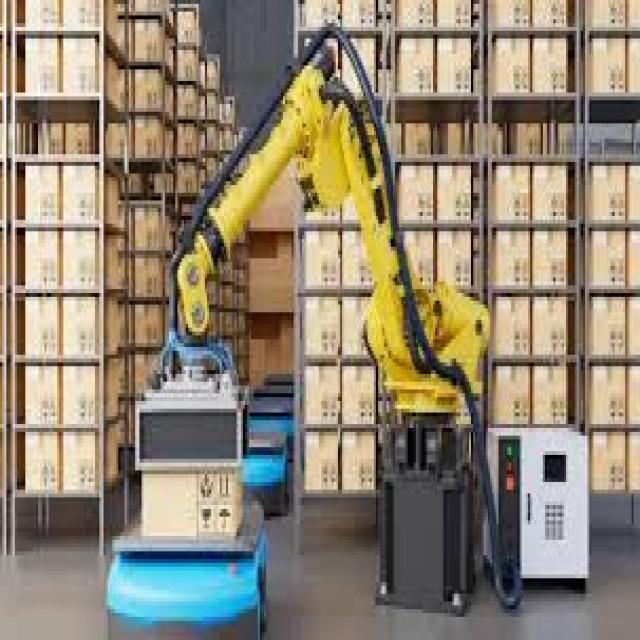Robotic-arm: (174, 29, 491, 418)
